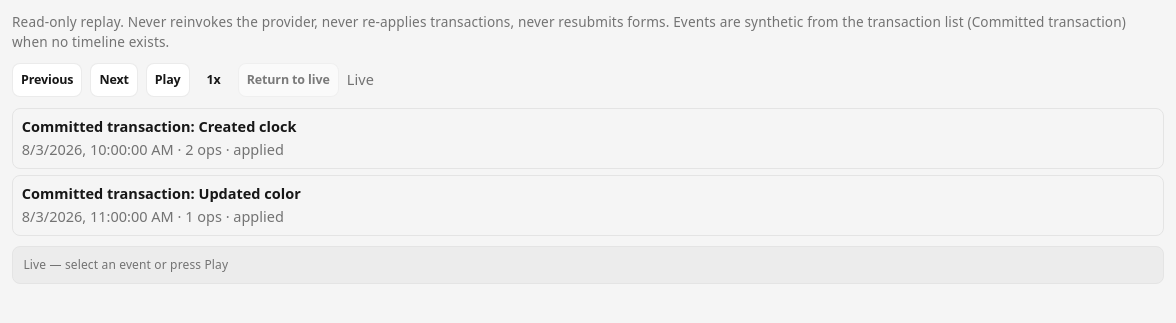
ReplayPlayer › returns to live
Click the button with aria-label "Next replay event": (114, 80) [90,63,138,97]
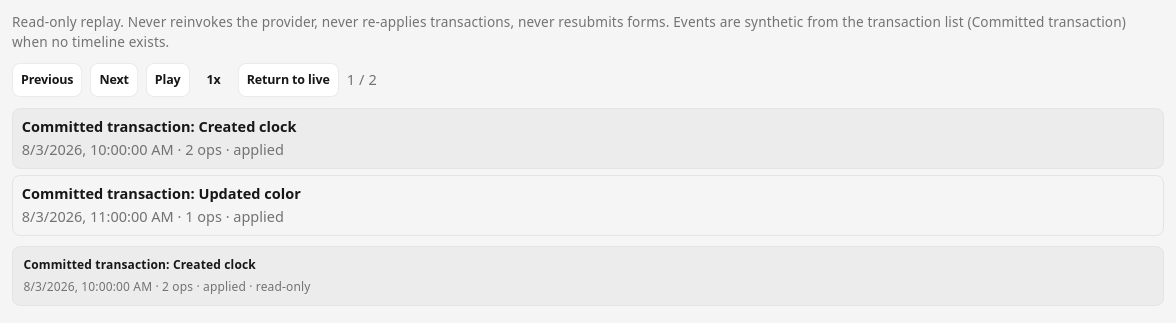
Click the button "Return to live": (288, 80) [238,63,339,97]
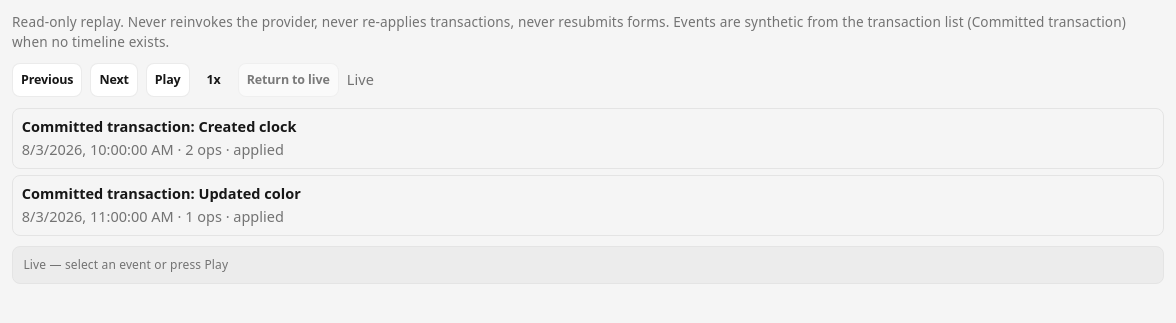
expect the text "Live" is shown: met, box [347,69,374,91]
expect the text "Live — select an event or press Play" is shown: met, box [23,256,228,273]
